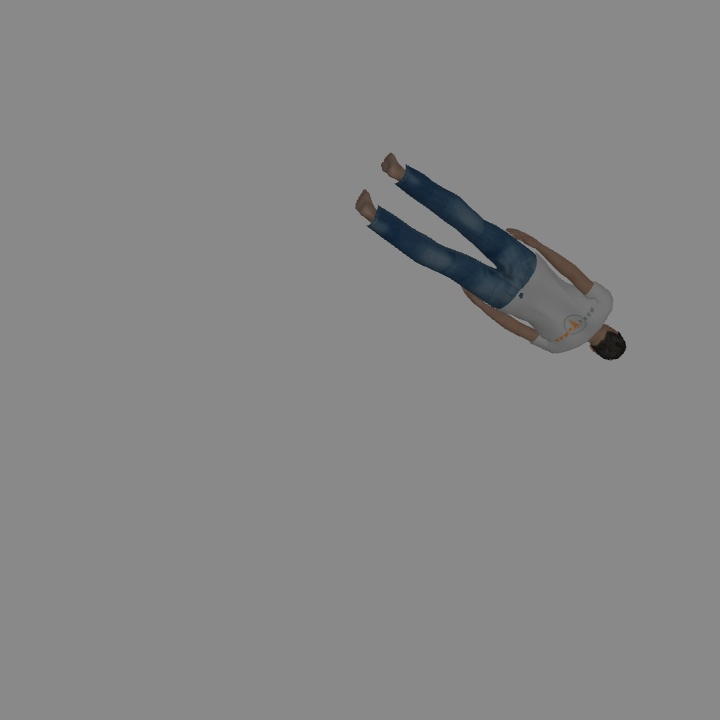victim: (361, 165, 625, 359)
